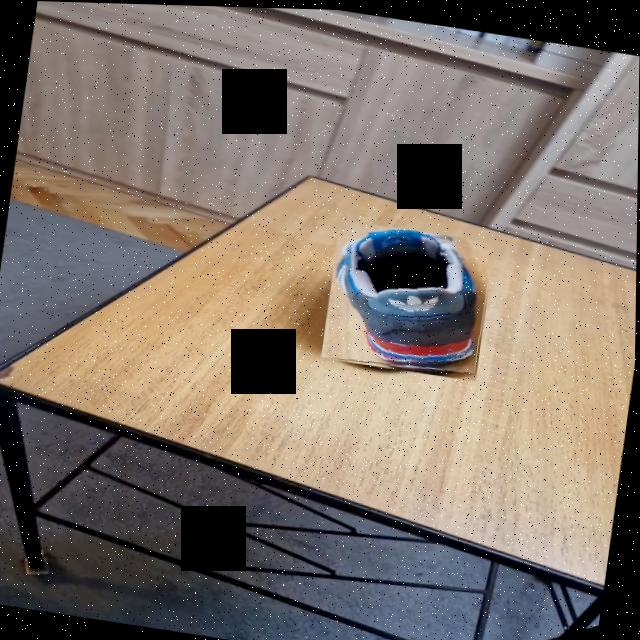shoe: (322, 217, 496, 379)
